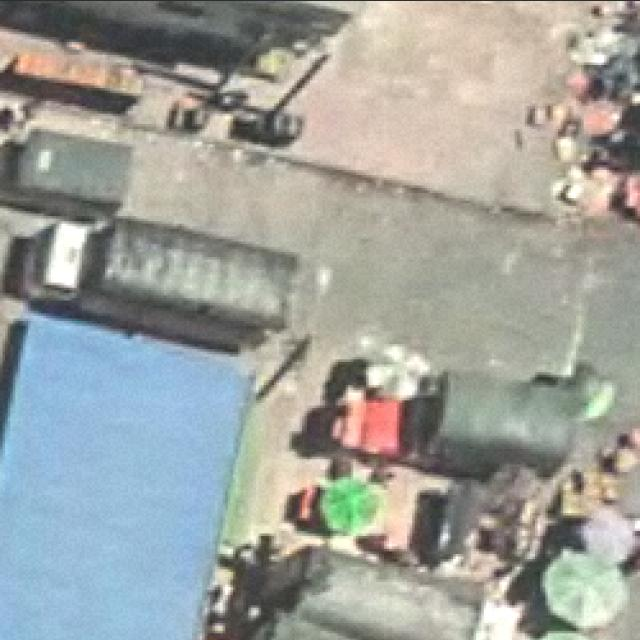vendedor_ambulante: (540, 548, 628, 628), (317, 467, 379, 541), (576, 506, 640, 568), (515, 630, 609, 640)
